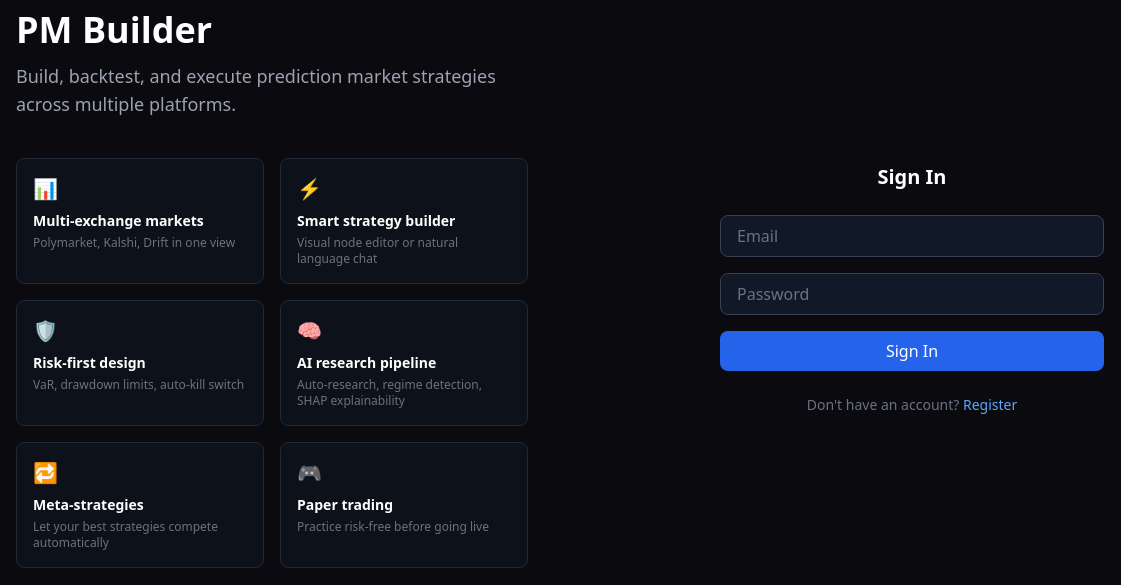
Test: LoginPage › toggles to register form
Click the button "Register".
click(990, 405)  # box [963, 395, 1017, 415]
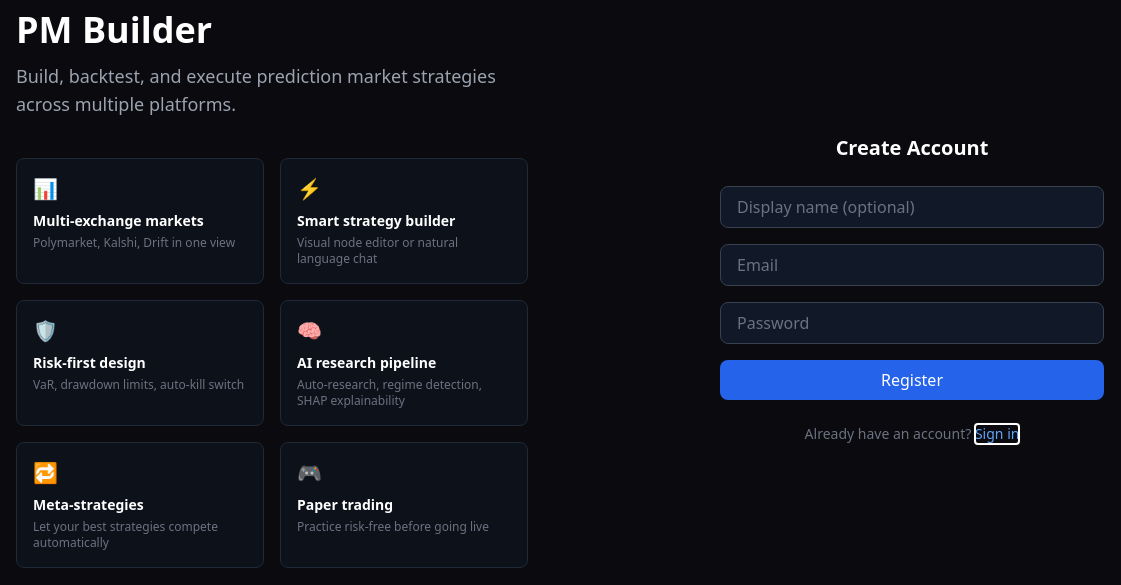
Result: the heading "Create Account" is shown at [836, 134, 988, 161]
Result: the field with placeholder "Display name (optional)" is shown at [720, 186, 1104, 228]
Result: the text "Already have an account?" is shown at [805, 424, 971, 443]
